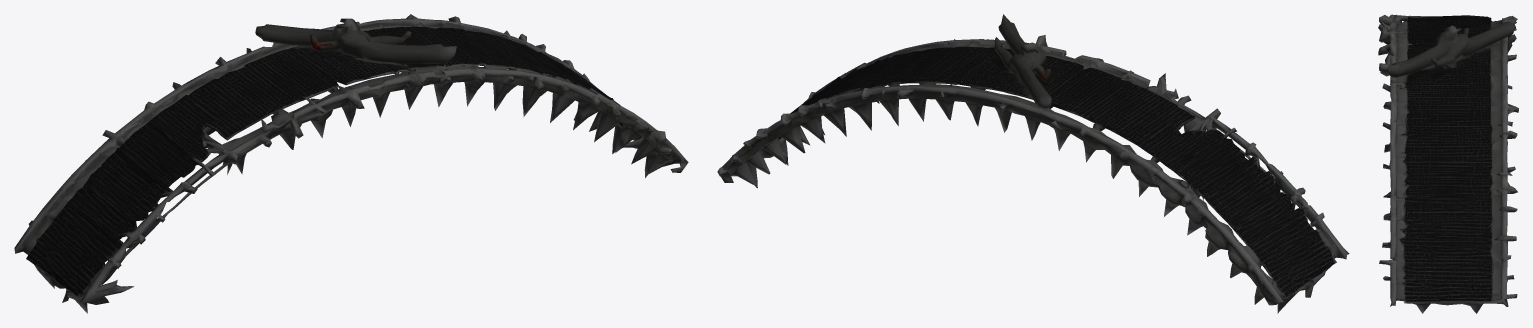
The model's file is obstacle_near.glb.
3 views of the same model, side by side, from view 1: azimuth 30°, elevation 25°; view 2: azimuth 150°, elevation 25°; view 3: azimuth 270°, elevation 25° (orthographic). The views are drawn at different scales.
Parts seen in each view (by area): view 1: tripo_node_cb4c5394-3ad8-4dc1-a110-46e509839fa8; view 2: tripo_node_cb4c5394-3ad8-4dc1-a110-46e509839fa8; view 3: tripo_node_cb4c5394-3ad8-4dc1-a110-46e509839fa8.
Part boxes in pixels (x1,y1,x2,y2): tripo_node_cb4c5394-3ad8-4dc1-a110-46e509839fa8: [14, 14, 688, 313]; tripo_node_cb4c5394-3ad8-4dc1-a110-46e509839fa8: [717, 14, 1349, 313]; tripo_node_cb4c5394-3ad8-4dc1-a110-46e509839fa8: [1378, 14, 1518, 313].
Size of the model in its own units: 1 by 0.3371 by 0.244.
1 material, 1 textured.
